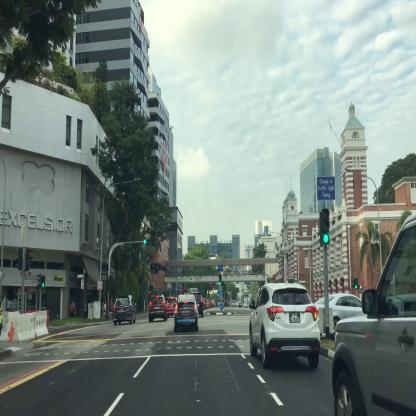green_traffic_light: (321, 211, 329, 243), (144, 239, 151, 244)
